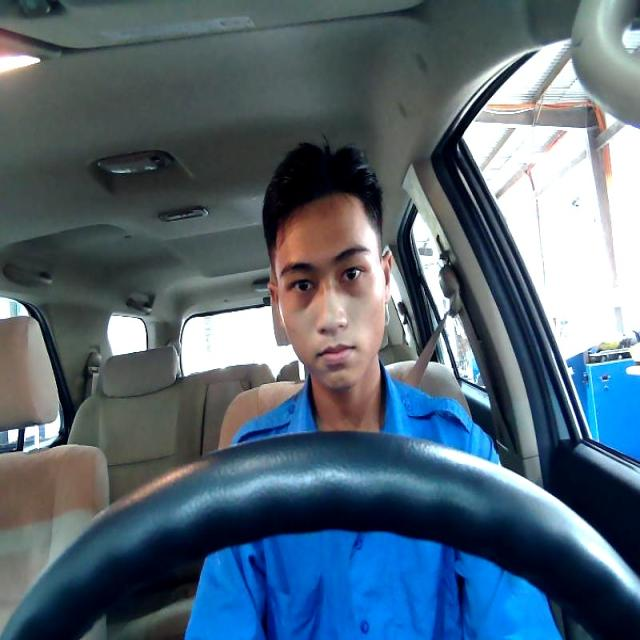focused: (266, 194, 392, 387)
